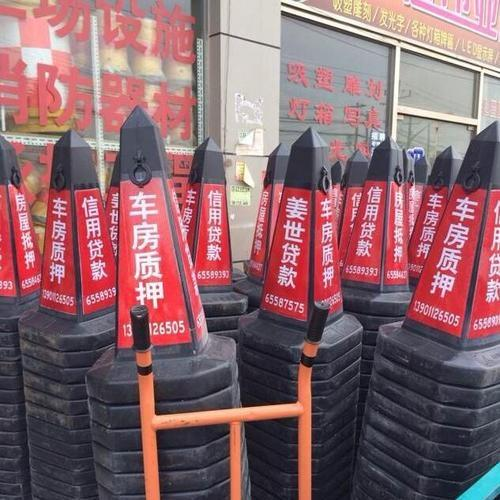cone_barrel: (107, 112, 212, 363), (397, 126, 499, 355), (254, 132, 347, 334), (29, 133, 114, 325), (343, 141, 409, 292), (180, 133, 237, 298), (243, 140, 287, 284)
